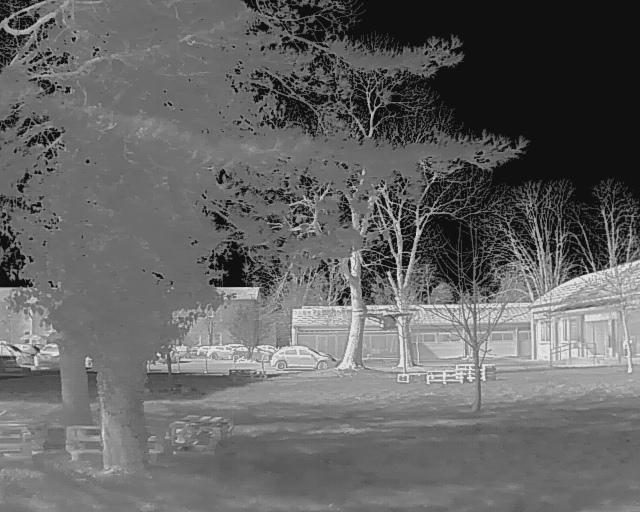drone: (348, 304, 425, 338)
